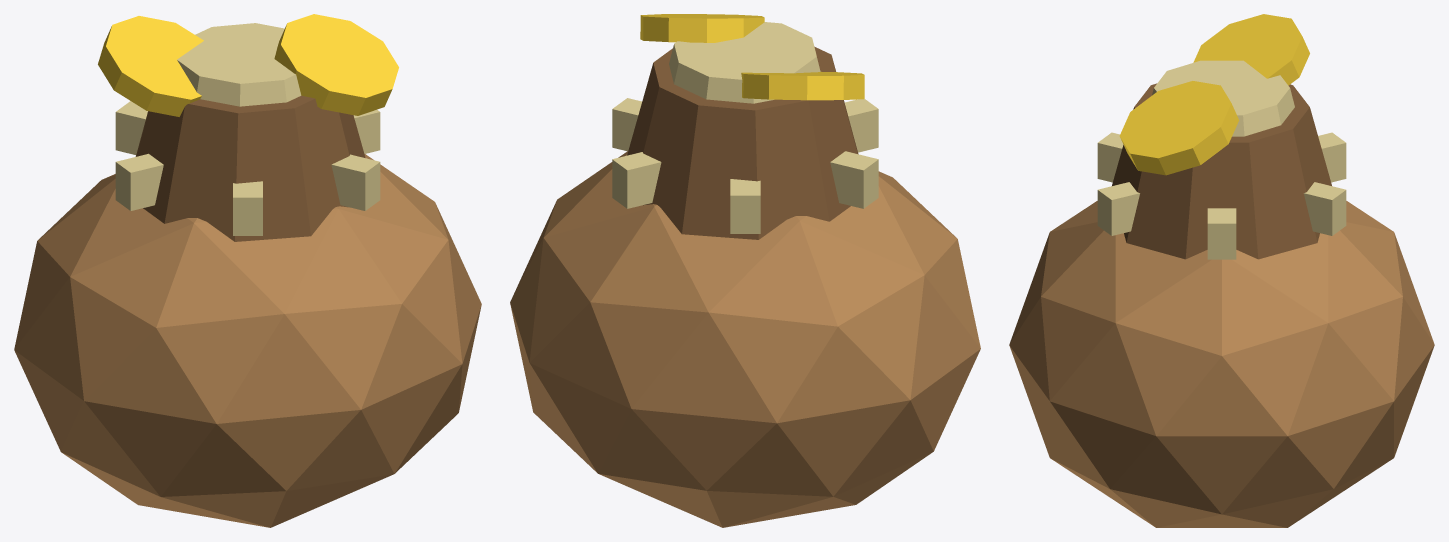
The model's file is loot_coin_pouch.glb.
3 views of the same model, side by side, from view 1: azimuth 30°, elevation 25°; view 2: azimuth 150°, elevation 25°; view 3: azimuth 270°, elevation 25° (orthographic). The views are drawn at different scales.
Visible parts, largest first — view 1: Pouch_Body, Pouch_Neck, Pouch_Coin_2, Pouch_Mouth, Pouch_Coin_1, Pouch_Tie_4, Pouch_Tie_6, Pouch_Tie_5, Pouch_Tie_3, Pouch_Tie_1; view 2: Pouch_Body, Pouch_Neck, Pouch_Mouth, Pouch_Coin_1, Pouch_Coin_2, Pouch_Tie_4, Pouch_Tie_2, Pouch_Tie_3, Pouch_Tie_5, Pouch_Tie_1; view 3: Pouch_Body, Pouch_Neck, Pouch_Coin_2, Pouch_Mouth, Pouch_Coin_1, Pouch_Tie_2, Pouch_Tie_6, Pouch_Tie_1, Pouch_Tie_3, Pouch_Tie_5.
Boxes of the visible parts, bbox=[...] form: Pouch_Body: bbox=[14, 154, 481, 527]; Pouch_Neck: bbox=[135, 95, 365, 241]; Pouch_Coin_2: bbox=[274, 14, 398, 115]; Pouch_Mouth: bbox=[177, 23, 301, 106]; Pouch_Coin_1: bbox=[98, 16, 203, 116]; Pouch_Tie_4: bbox=[115, 153, 163, 210]; Pouch_Tie_6: bbox=[331, 154, 380, 210]; Pouch_Tie_5: bbox=[233, 181, 262, 235]; Pouch_Tie_3: bbox=[115, 101, 147, 154]; Pouch_Tie_1: bbox=[353, 109, 380, 153]; Pouch_Body: bbox=[510, 151, 980, 527]; Pouch_Neck: bbox=[627, 46, 858, 239]; Pouch_Mouth: bbox=[669, 22, 820, 103]; Pouch_Coin_1: bbox=[741, 71, 864, 100]; Pouch_Coin_2: bbox=[640, 14, 764, 42]; Pouch_Tie_4: bbox=[830, 151, 878, 208]; Pouch_Tie_2: bbox=[612, 152, 661, 208]; Pouch_Tie_3: bbox=[730, 179, 760, 233]; Pouch_Tie_5: bbox=[844, 99, 878, 152]; Pouch_Tie_1: bbox=[612, 98, 641, 151]; Pouch_Body: bbox=[1009, 201, 1434, 527]; Pouch_Neck: bbox=[1112, 83, 1331, 259]; Pouch_Coin_2: bbox=[1119, 81, 1239, 175]; Pouch_Mouth: bbox=[1152, 60, 1294, 136]; Pouch_Coin_1: bbox=[1193, 14, 1309, 85]; Pouch_Tie_2: bbox=[1304, 182, 1346, 235]; Pouch_Tie_6: bbox=[1097, 182, 1139, 235]; Pouch_Tie_1: bbox=[1207, 208, 1236, 259]; Pouch_Tie_3: bbox=[1318, 132, 1346, 182]; Pouch_Tie_5: bbox=[1097, 132, 1123, 182].
Bounding box in the file's own units: 0.3043 × 0.3487 × 0.3.
